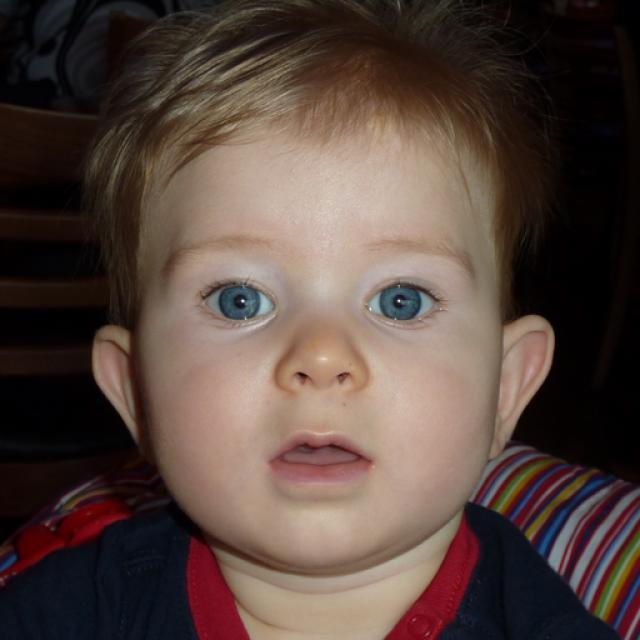surprise: (141, 106, 499, 565)
